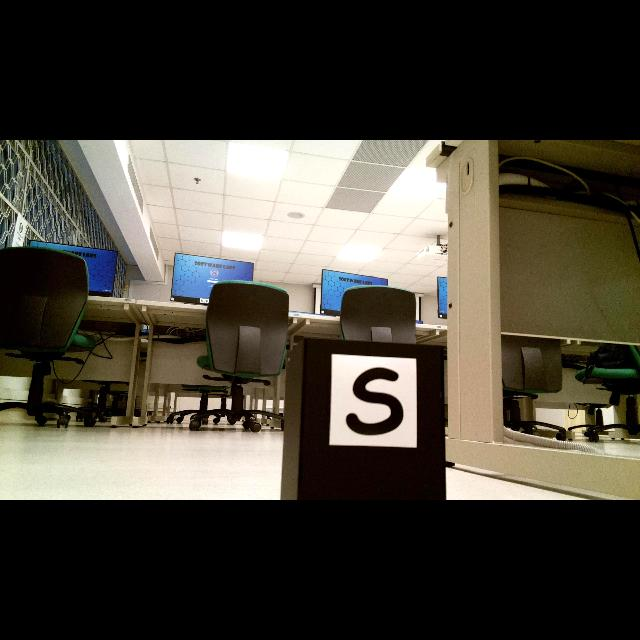S: (346, 368, 405, 435)
